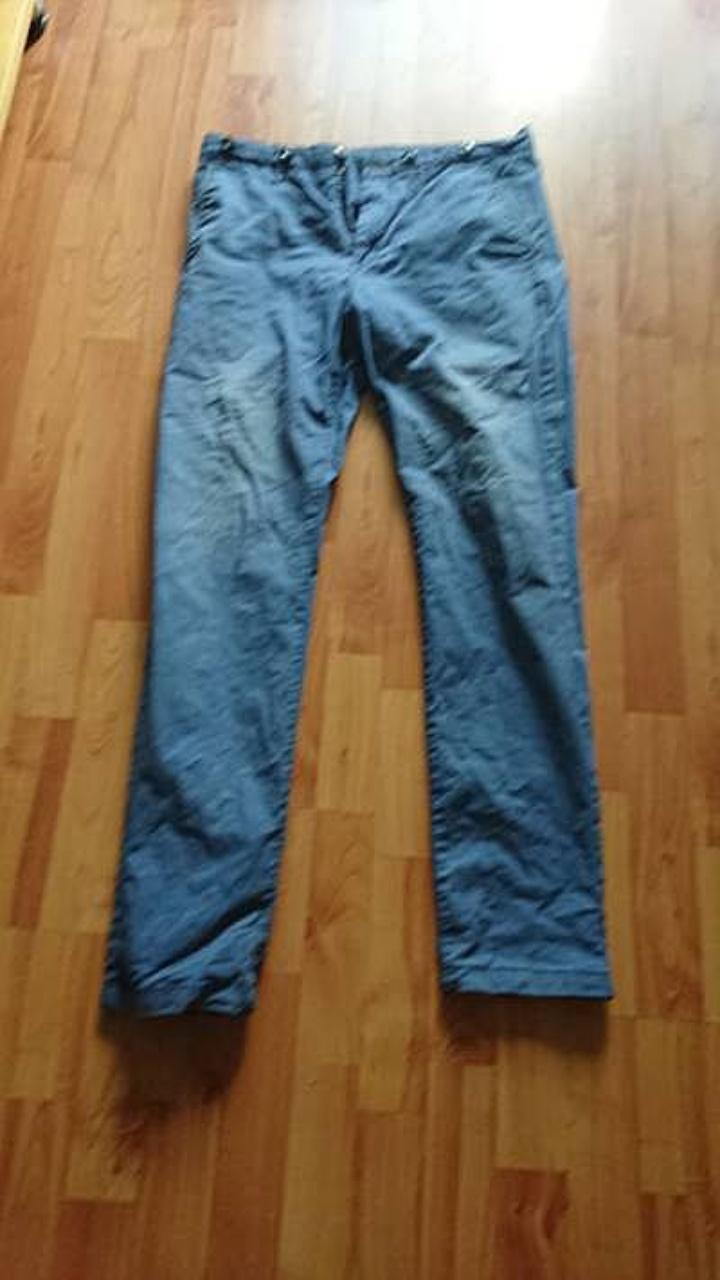Jeans: (102, 130, 610, 1013)
